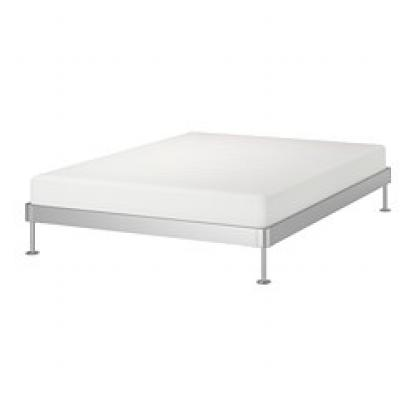Bed: (17, 93, 401, 300)
